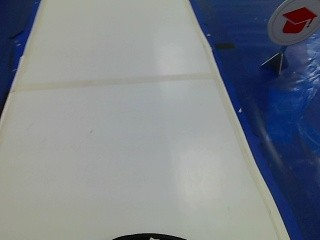school: (265, 0, 318, 45)
